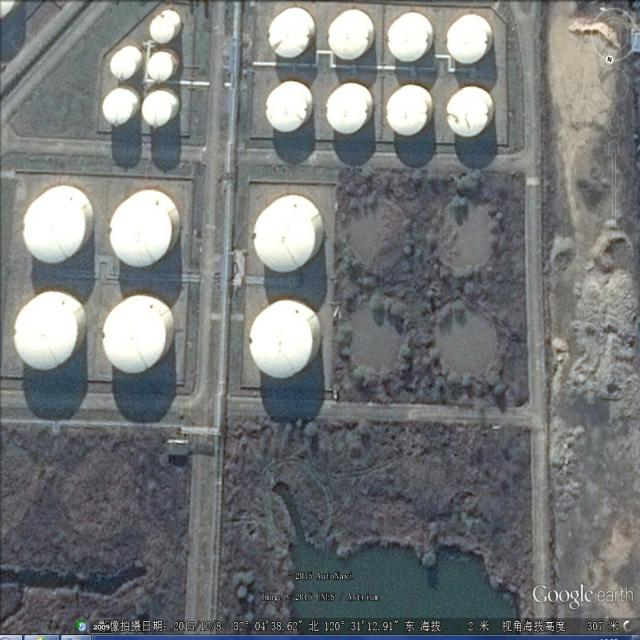oiltank: (11, 286, 89, 375), (99, 291, 179, 376), (21, 182, 97, 269), (249, 297, 324, 385), (110, 187, 183, 273), (253, 195, 328, 277), (326, 80, 378, 141), (385, 81, 437, 141), (445, 9, 496, 69), (266, 77, 316, 138), (445, 83, 496, 140), (386, 9, 436, 67), (269, 7, 317, 63), (328, 9, 378, 61), (142, 87, 182, 129), (103, 88, 140, 130), (148, 9, 183, 46), (146, 49, 183, 82), (110, 47, 144, 82)
